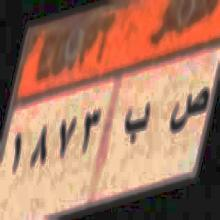1: (9, 129, 23, 180)
3: (82, 106, 102, 159)
7: (58, 111, 77, 160)
8: (30, 126, 48, 172)
baa: (124, 102, 151, 148)
saad: (168, 85, 209, 138)
